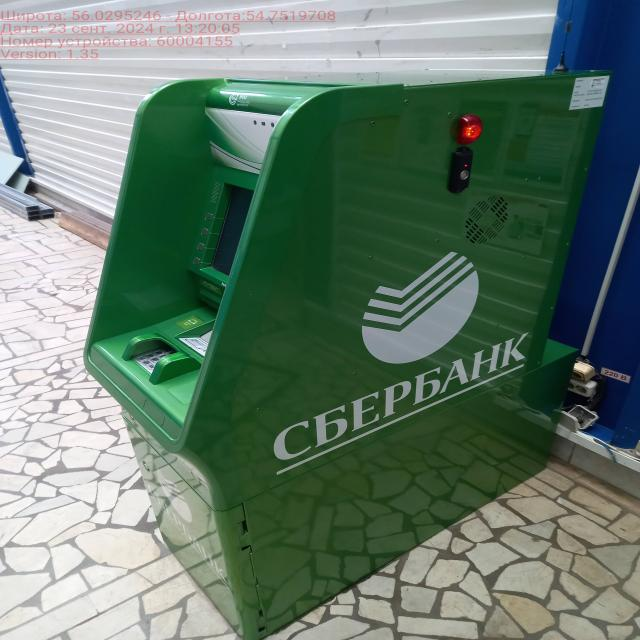bank: (86, 70, 626, 640)
